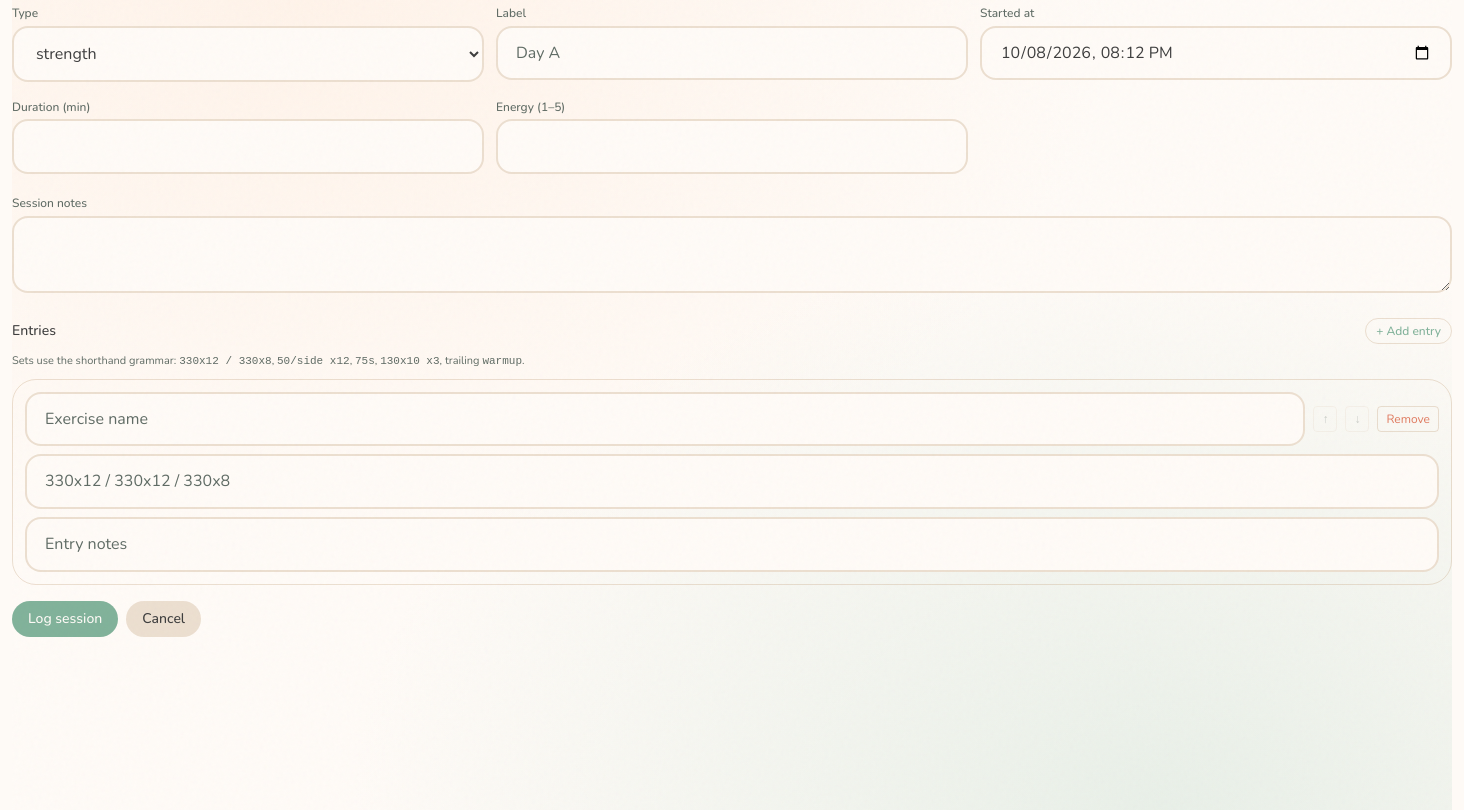
SessionEditForm (create mode) › surfaces server errors inline
Click the button "Log session": (65, 619) x1=12 y1=601 x2=118 y2=637
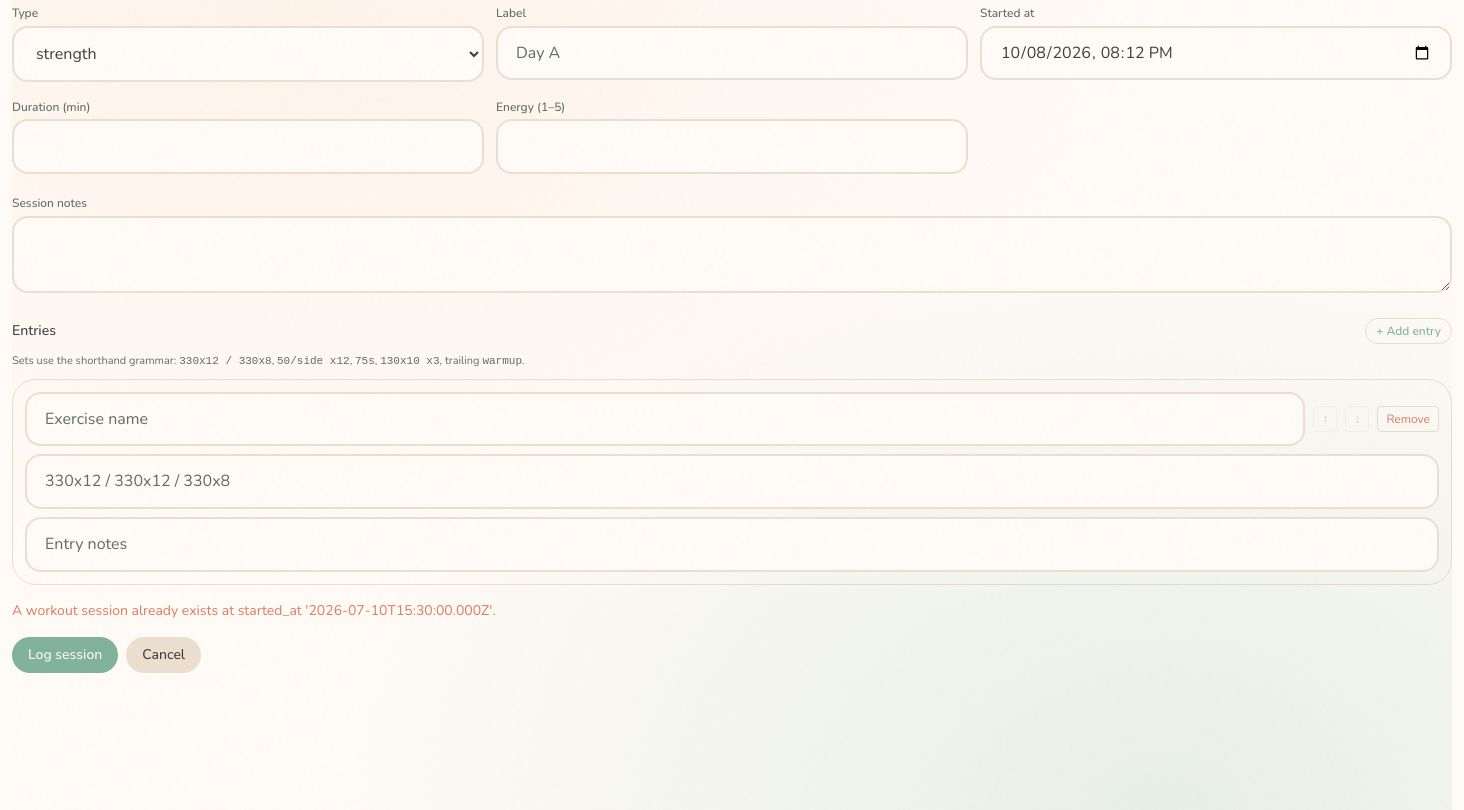
Expected: the message shows "A workout session already exists", x1=12 y1=601 x2=496 y2=620
